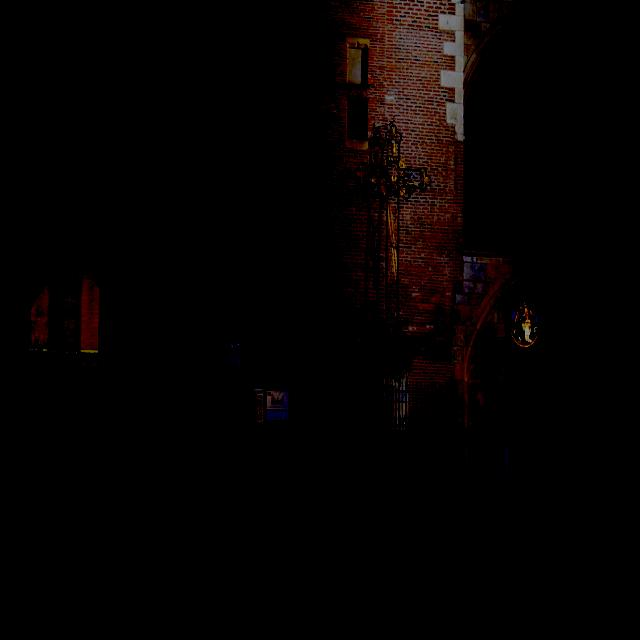Dog: (269, 495, 346, 585)
